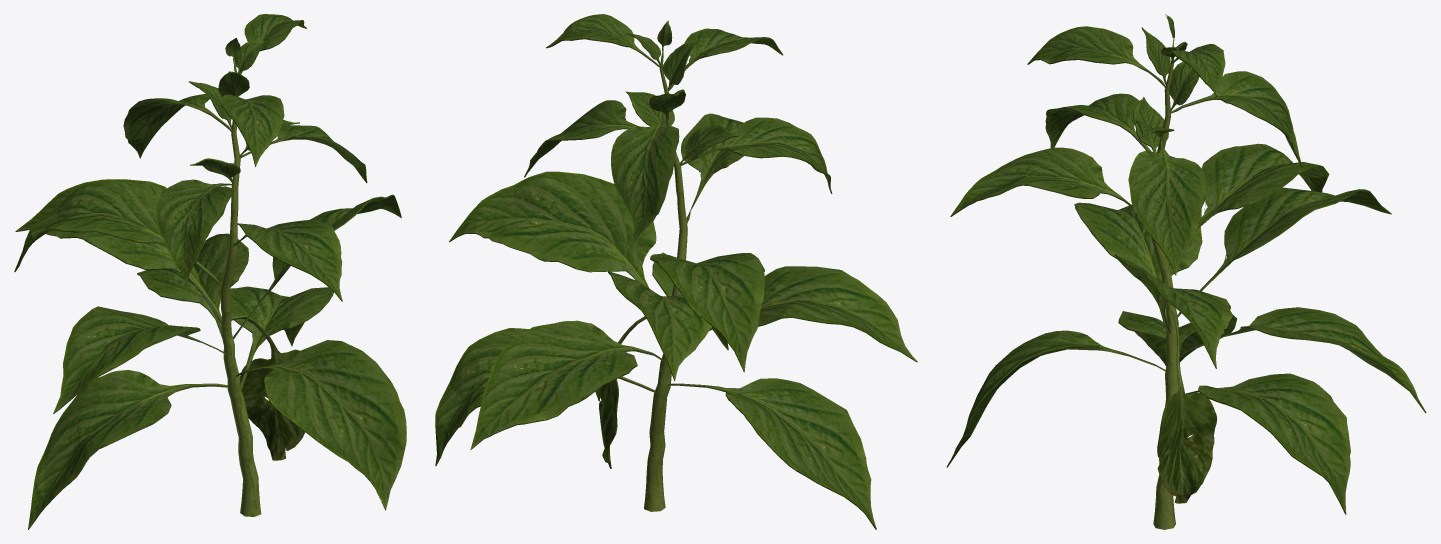
3 views of the same model, side by side, from view 1: azimuth 30°, elevation 25°; view 2: azimuth 150°, elevation 25°; view 3: azimuth 270°, elevation 25° (orthographic). The views are drawn at different scales.
Visible parts, largest first — view 1: VG07_005; view 2: VG07_005; view 3: VG07_005.
Part boxes in pixels (x1,y1,x2,y2): VG07_005: (14,14,406,529); VG07_005: (435,14,917,529); VG07_005: (946,14,1426,529).
Size of the model in its own units: 0.3783 by 0.3709 by 0.4293.
Materials: 3 (3 with a texture image).
